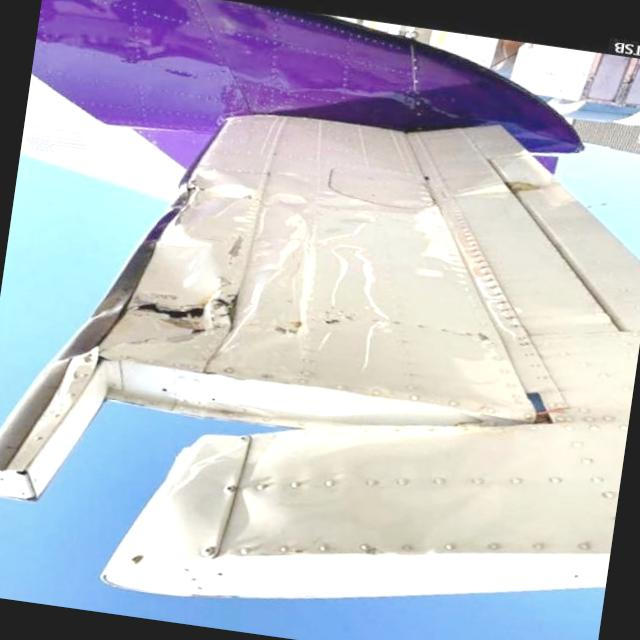dent: (180, 159, 266, 223)
